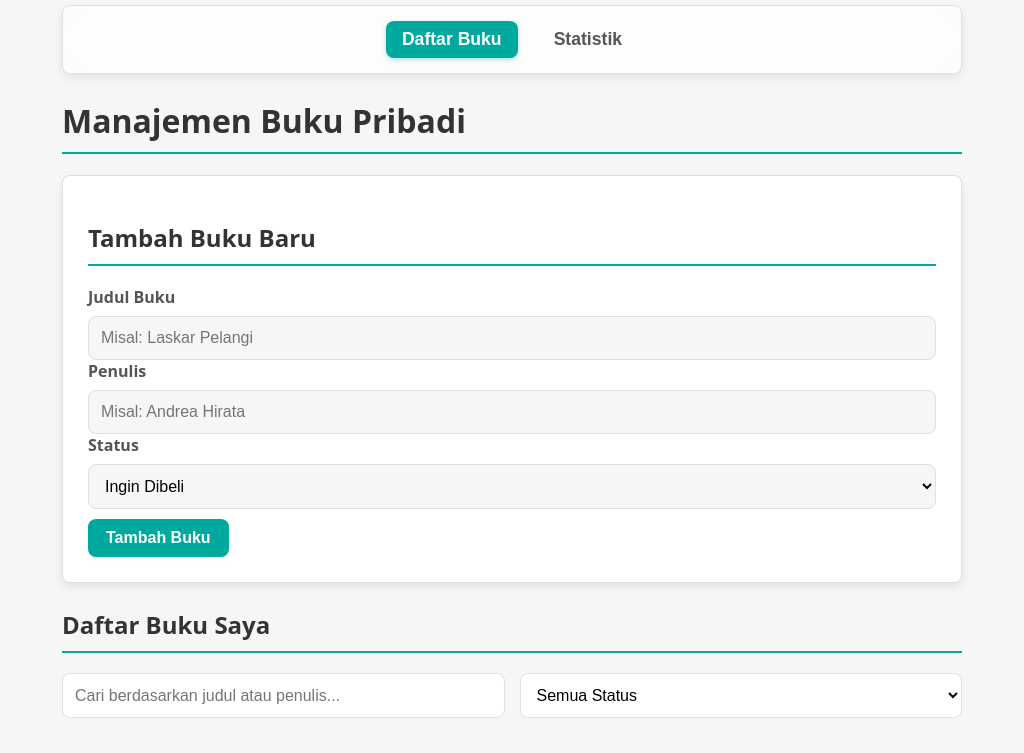
Test: Aplikasi Manajemen Buku (dengan User-Event) › 4. Penghapusan buku
This screenshot has width=1024, height=753.
Type "Buku Untuk Dihapus" into the field labelled "Judul Buku" at (512, 338), box [88, 316, 936, 360]
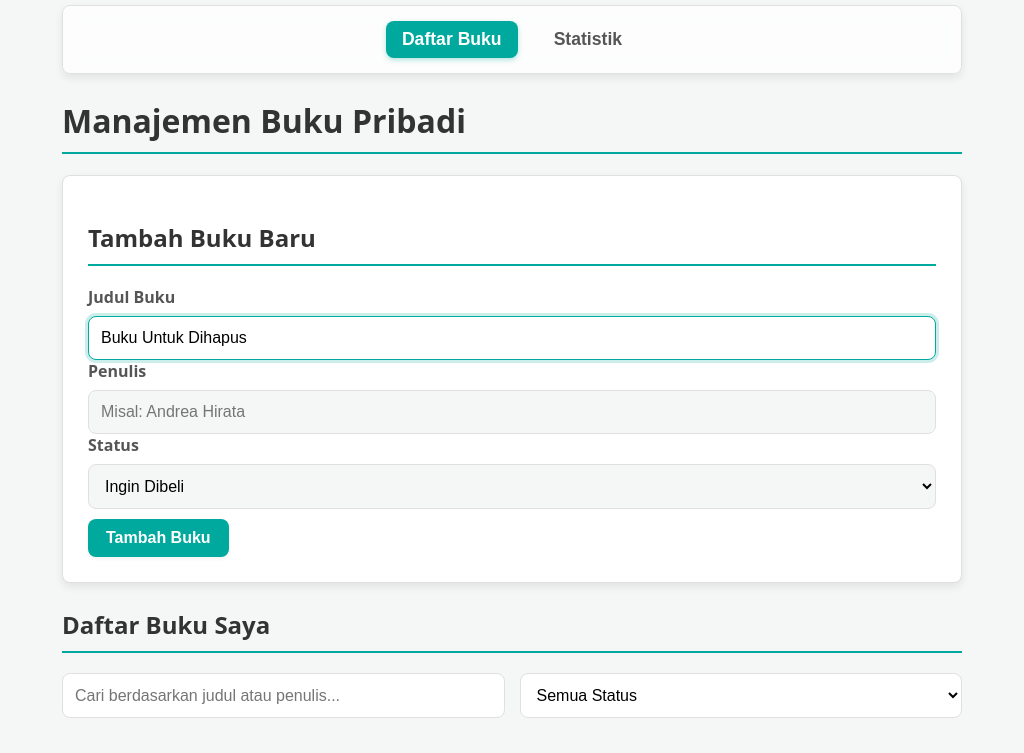
Type "Penulis Fana" into the field labelled "Penulis" at (512, 412), box [88, 390, 936, 434]
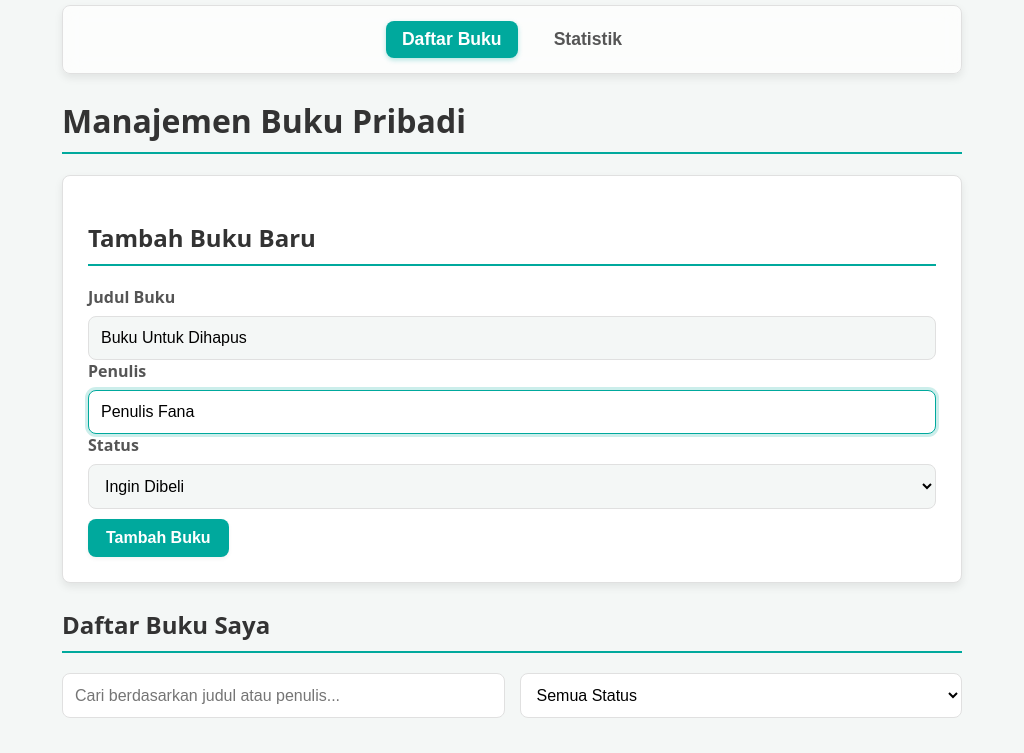
Select "Ingin Dibeli" in the dropdown labelled "Status" at (512, 487), box [88, 464, 936, 509]
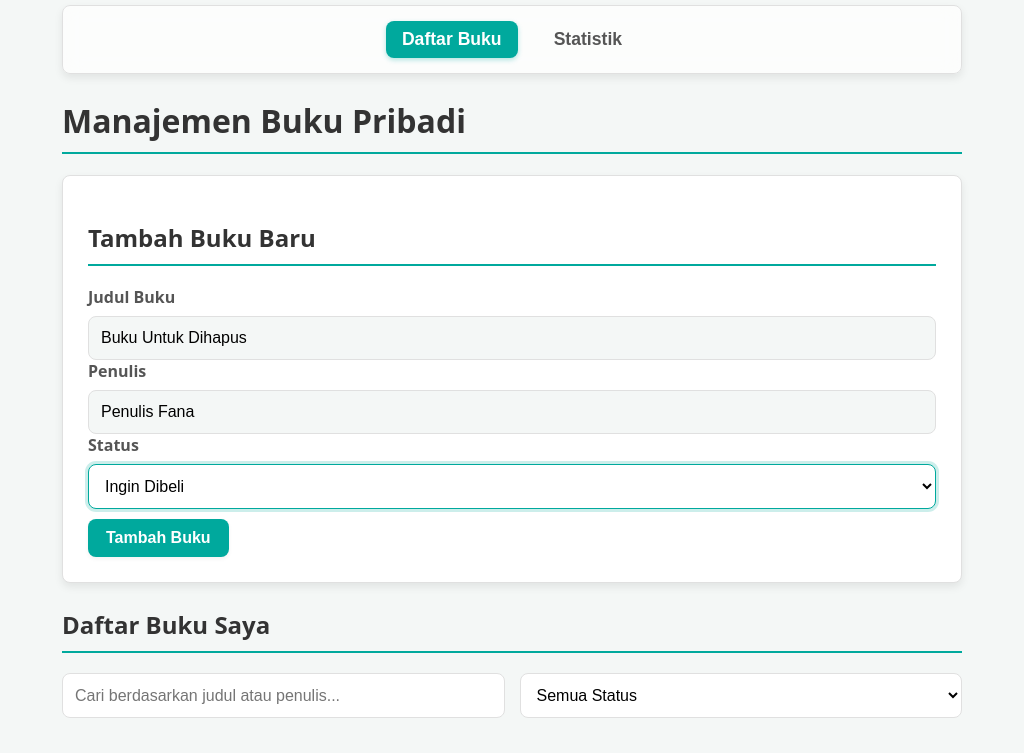
Click the button "Tambah Buku" at (158, 538), box [88, 519, 229, 557]
(page scrolled)
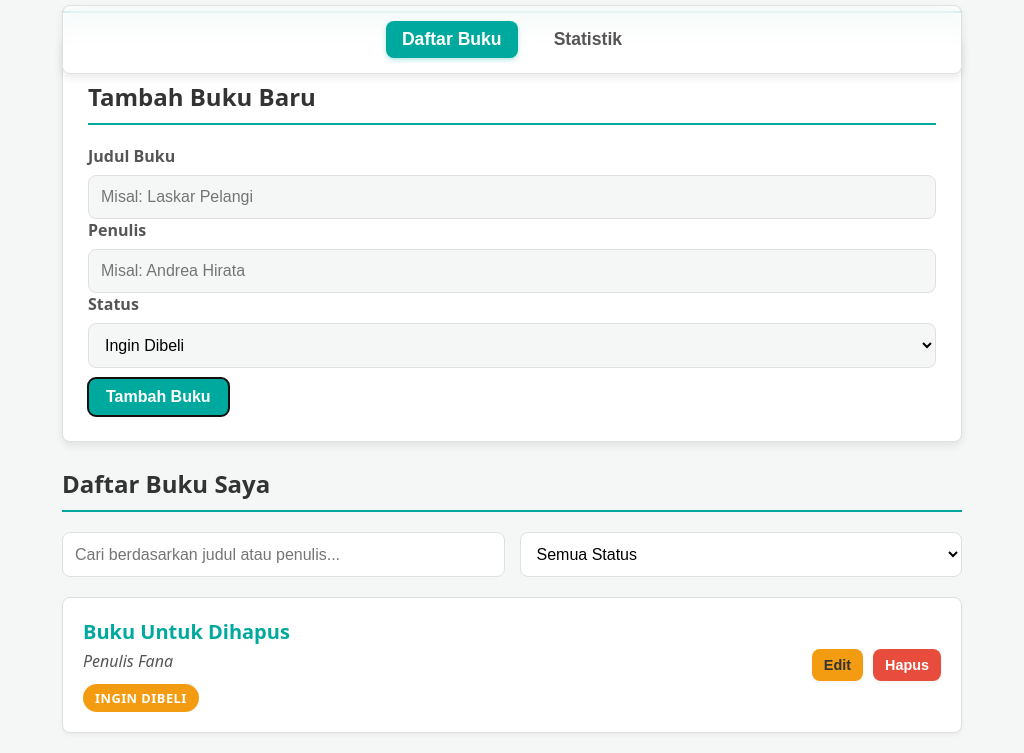
Expected: the heading "Buku Untuk Dihapus" is shown, [83, 618, 290, 645]
Click the button "Hapus" at (907, 665), box [873, 649, 941, 681]
(page scrolled)
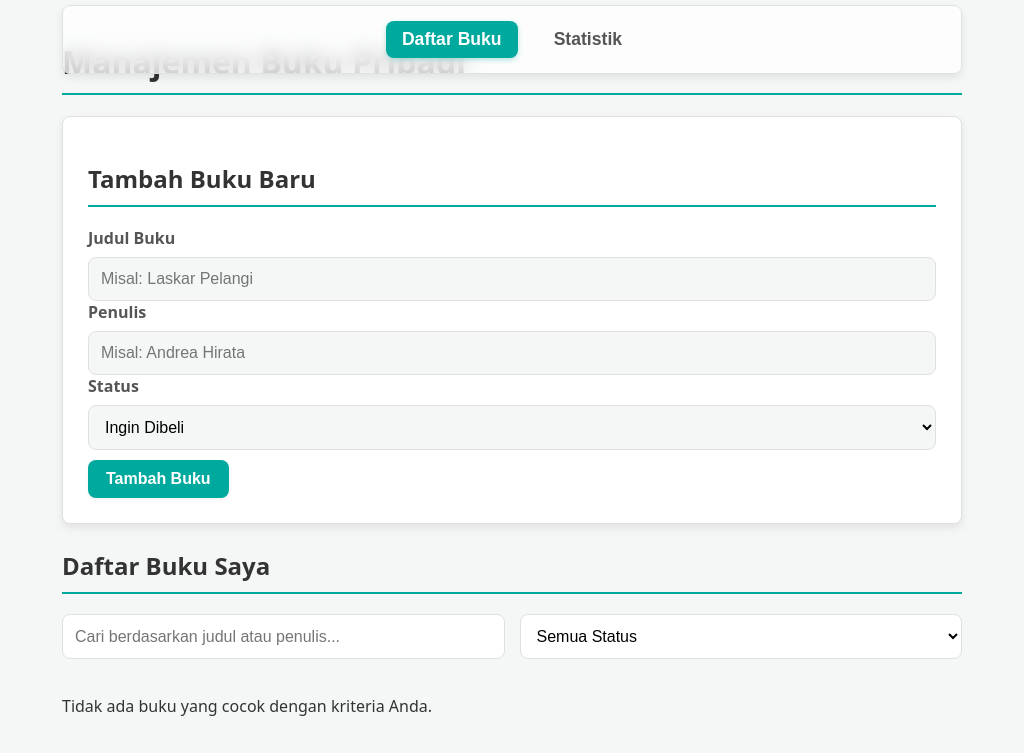
Expected: the heading "Buku Untuk Dihapus" is gone
